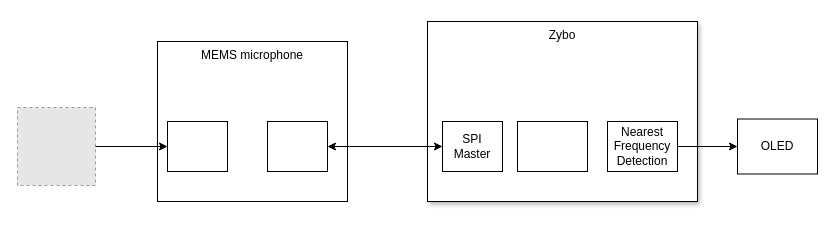
This 835x226 diagram has some shape labels left out. Grey dashed boxes stand in for pictures. The shapes that lost their labels are listed below. From the top down, each one's centre as x and y in pixels, then its label:
[197,146]: ADC
[297,146]: SPI Slave
[552,146]: FFT
